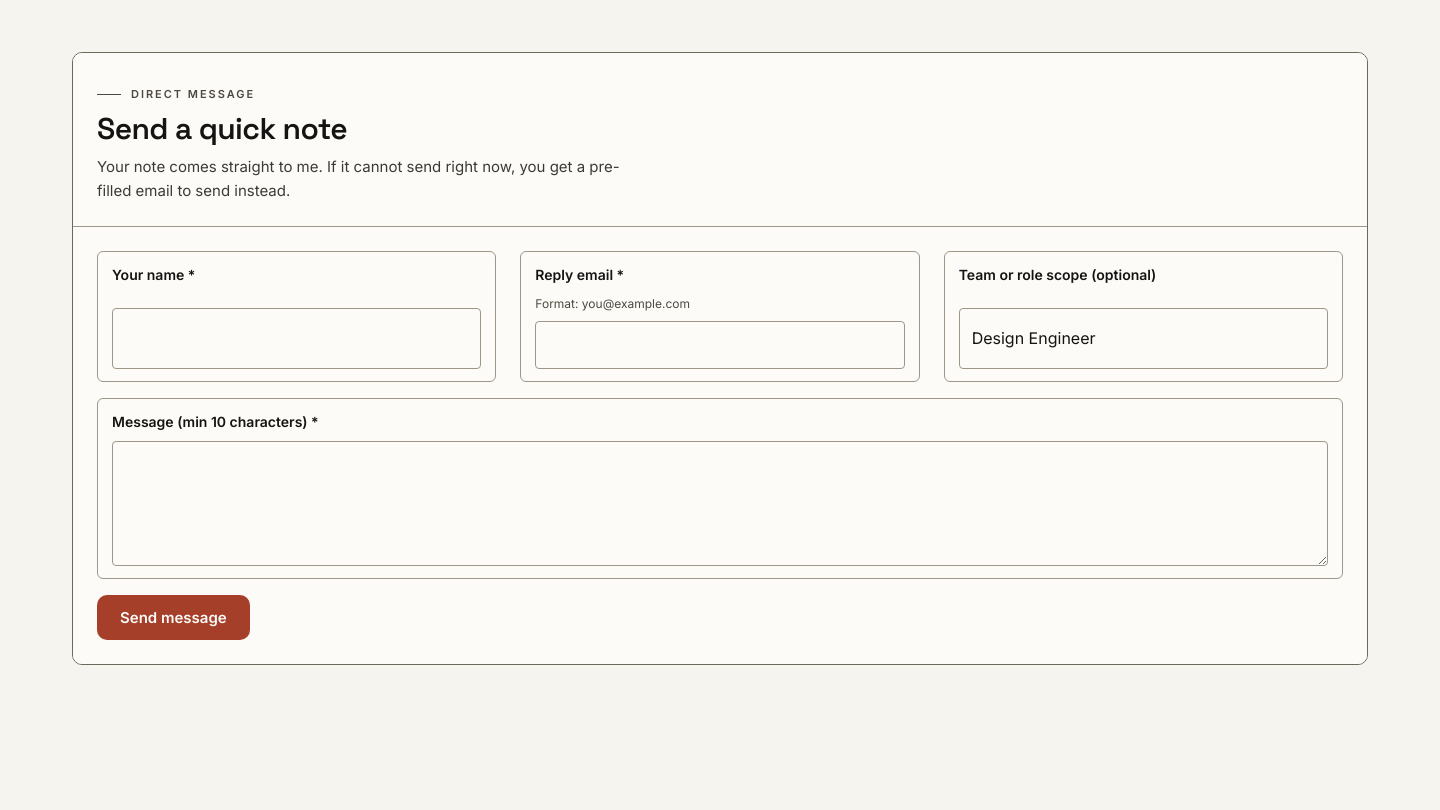
Test case: /api/contact Rate Limit, Zero-PII & QuickContactForm › validates fields after interaction and exposes aria-invalid on submit errors in QuickContactForm
Click the button "Send message": [173, 617] box [97,595,250,640]
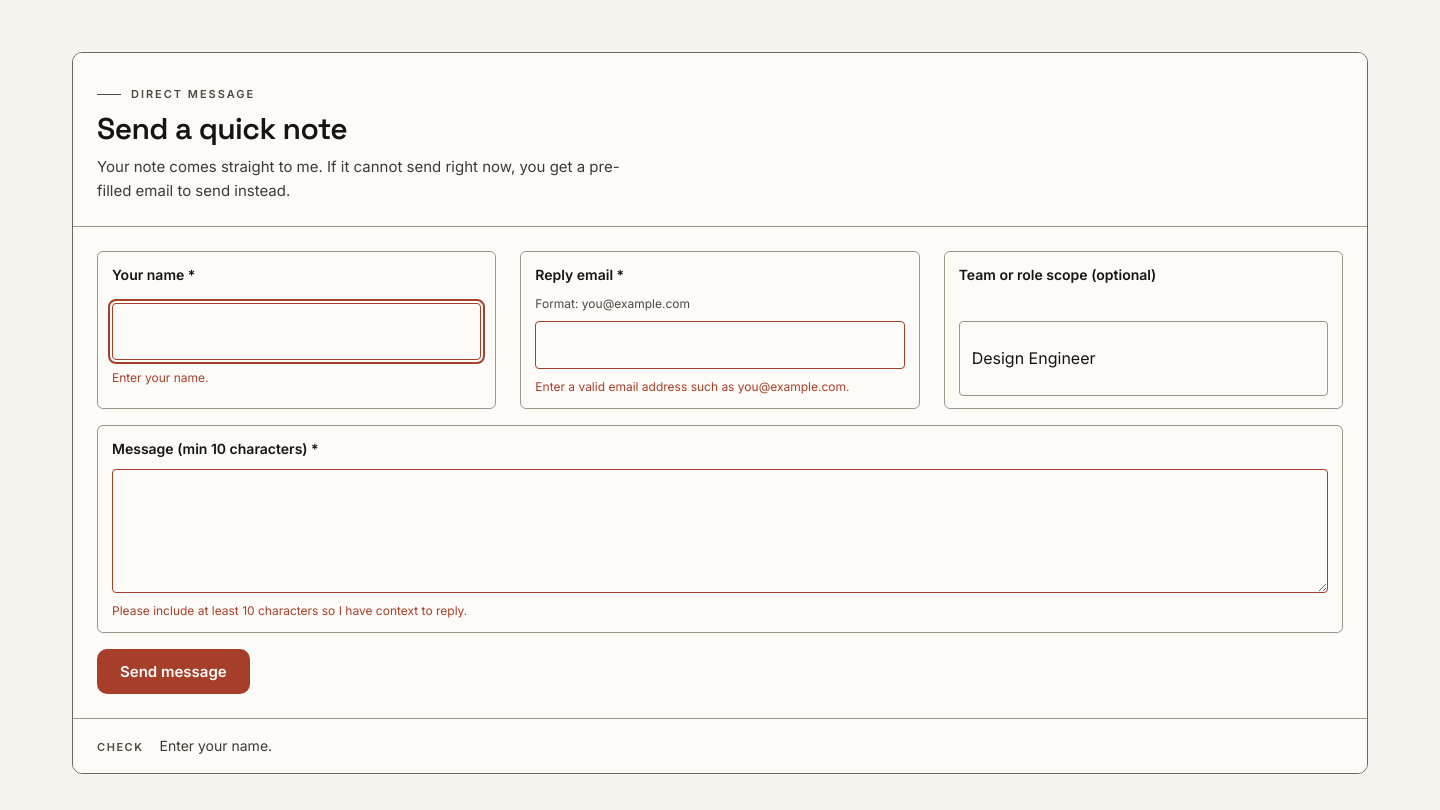
Now the message shows "Enter your name", box [160,737,272,754]
